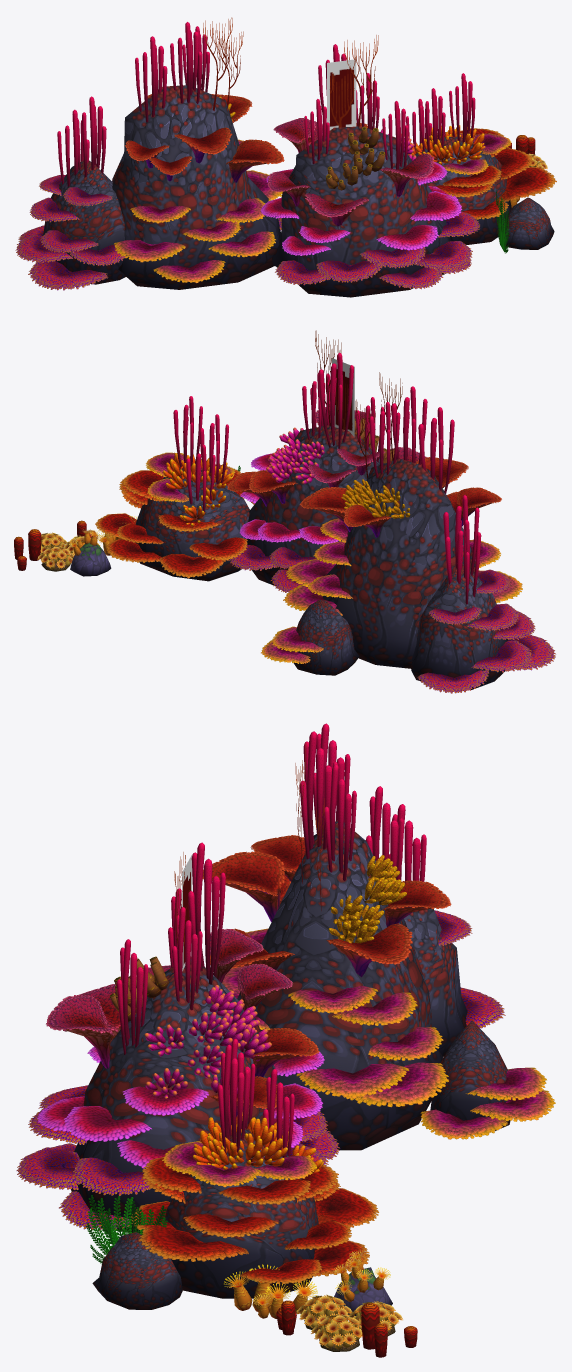
The model's file is CoralSet_06.FBX.
3 views of the same model, one above another, from view 1: azimuth 30°, elevation 25°; view 2: azimuth 150°, elevation 25°; view 3: azimuth 270°, elevation 25° (orthographic). The views are drawn at different scales.
Visible parts, largest first — view 1: Box025, Plane403, Line344, CoralSet_06, Plane413, Plane404, Plane402, Plane398, Plane397, Line312, Line290, Plane396 (+2 smaller); view 2: Box025, Line344, Plane403, CoralSet_06, Plane404, Plane413, Plane402, Line314, Line290, Line338, Plane397, Plane396 (+4 smaller); view 3: Box025, Line344, CoralSet_06, Plane413, Plane404, Plane403, Plane402, Line314, Line290, Line327, Line338, Line330 (+5 smaller).
Boxes of the visible parts, bbox=[...] form: Box025: bbox=[42, 85, 554, 297]; Plane403: bbox=[15, 175, 479, 290]; Line344: bbox=[57, 22, 475, 186]; CoralSet_06: bbox=[124, 94, 434, 226]; Plane413: bbox=[114, 139, 282, 283]; Plane404: bbox=[435, 128, 556, 219]; Plane402: bbox=[260, 162, 462, 250]; Plane398: bbox=[327, 59, 356, 130]; Plane397: bbox=[203, 17, 378, 126]; Line312: bbox=[326, 126, 385, 190]; Line290: bbox=[410, 125, 485, 164]; Plane396: bbox=[424, 132, 511, 174]; Box025: bbox=[135, 425, 508, 689]; Line344: bbox=[173, 352, 481, 604]; Plane403: bbox=[229, 501, 555, 693]; CoralSet_06: bbox=[70, 407, 501, 576]; Plane404: bbox=[95, 466, 247, 578]; Plane413: bbox=[261, 518, 522, 663]; Plane402: bbox=[239, 453, 338, 544]; Line314: bbox=[265, 427, 324, 483]; Line290: bbox=[163, 453, 233, 526]; Line338: bbox=[341, 479, 410, 518]; Plane397: bbox=[315, 330, 402, 478]; Plane396: bbox=[146, 452, 235, 502]; Box025: bbox=[71, 820, 510, 1309]; Line344: bbox=[116, 723, 426, 1157]; CoralSet_06: bbox=[46, 835, 451, 1316]; Plane413: bbox=[222, 928, 555, 1139]; Plane404: bbox=[131, 1157, 378, 1283]; Plane403: bbox=[16, 910, 505, 1230]; Plane402: bbox=[37, 1047, 324, 1168]; Line314: bbox=[144, 985, 271, 1098]; Line290: bbox=[193, 1112, 323, 1173]; Line327: bbox=[224, 1250, 390, 1318]; Line338: bbox=[328, 855, 406, 943]; Line330: bbox=[296, 1294, 402, 1349].
Bounding box in the file's own units: 58807 × 26824 × 36245.
